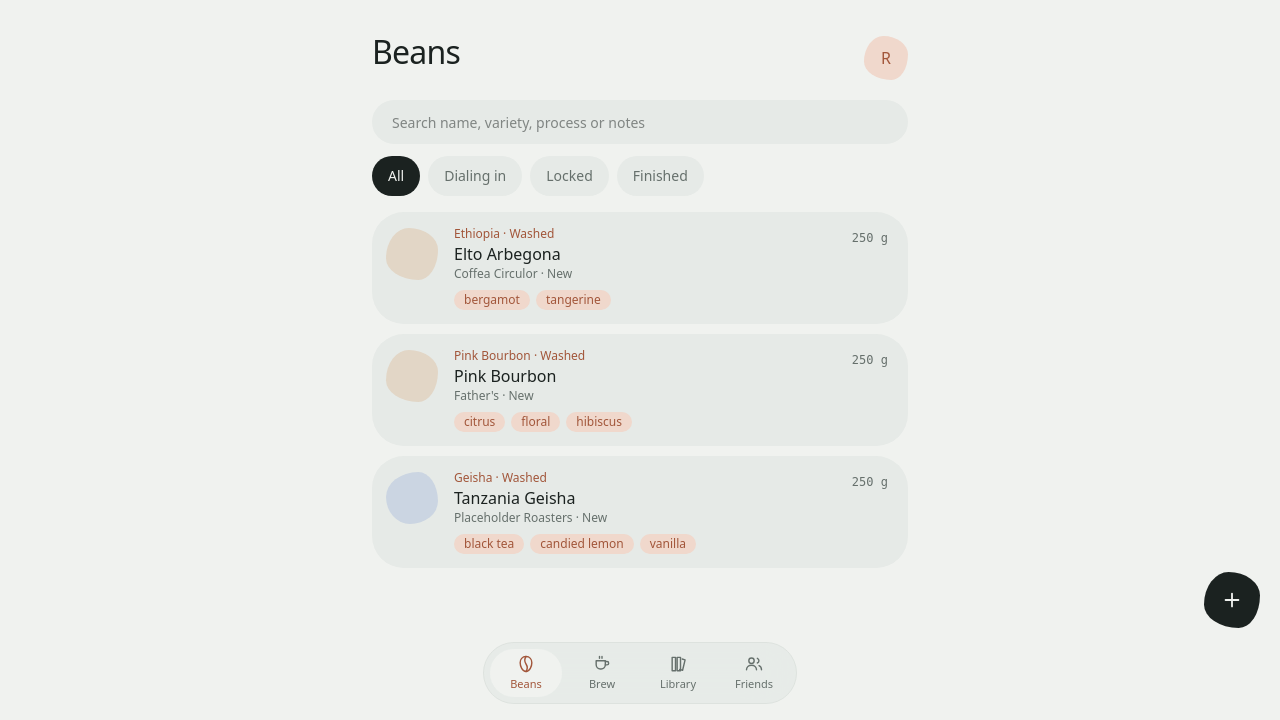
Test: Beans search › finds a variety
Type "geisha" into the search field named "Search your beans". click: point(640, 122)
box: [372,100,908,144]
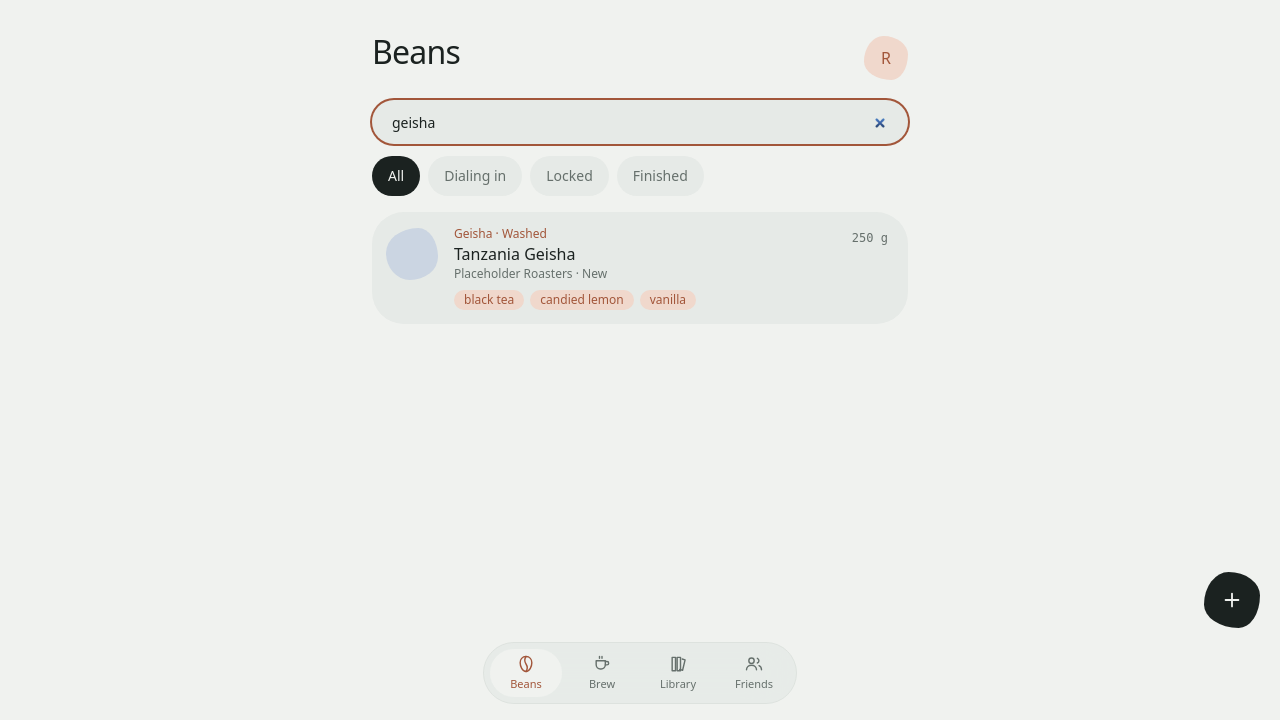
Expected: the text "Tanzania Geisha" is shown, [454,243,576,265]
Now the link "Pink Bourbon" is gone
Now the link "Elto Arbegona" is gone
